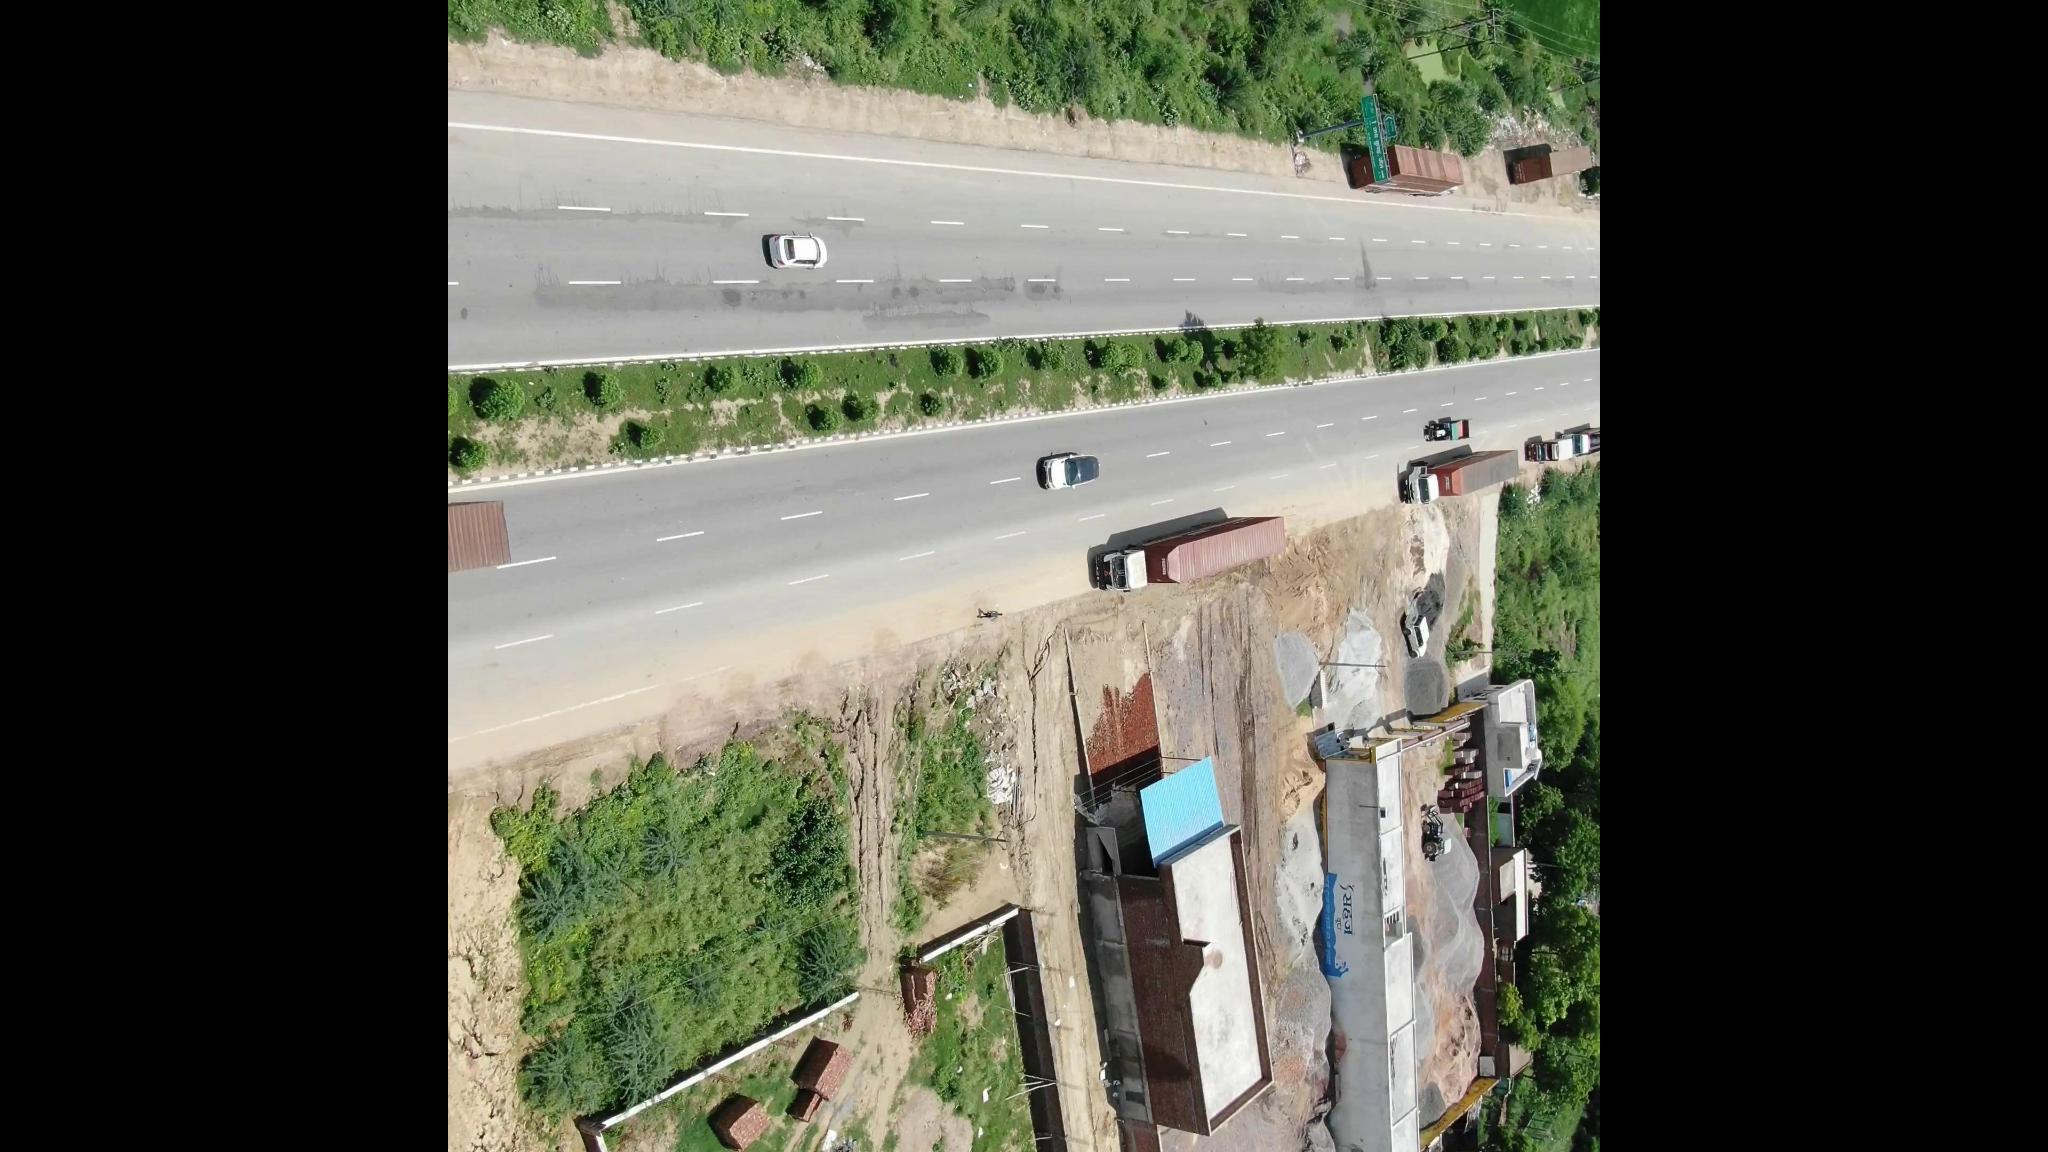Potholes: (980, 284, 1020, 300), (931, 279, 954, 300)
